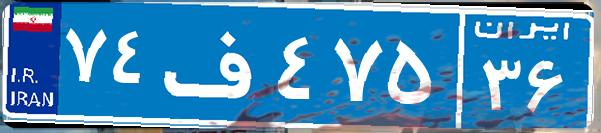3: (475, 38, 525, 113)
4: (273, 28, 330, 110), (110, 28, 158, 105)
5: (385, 28, 445, 110)
6: (525, 38, 570, 115)
7: (330, 28, 385, 110), (57, 26, 110, 107)
ف: (158, 15, 273, 115)
